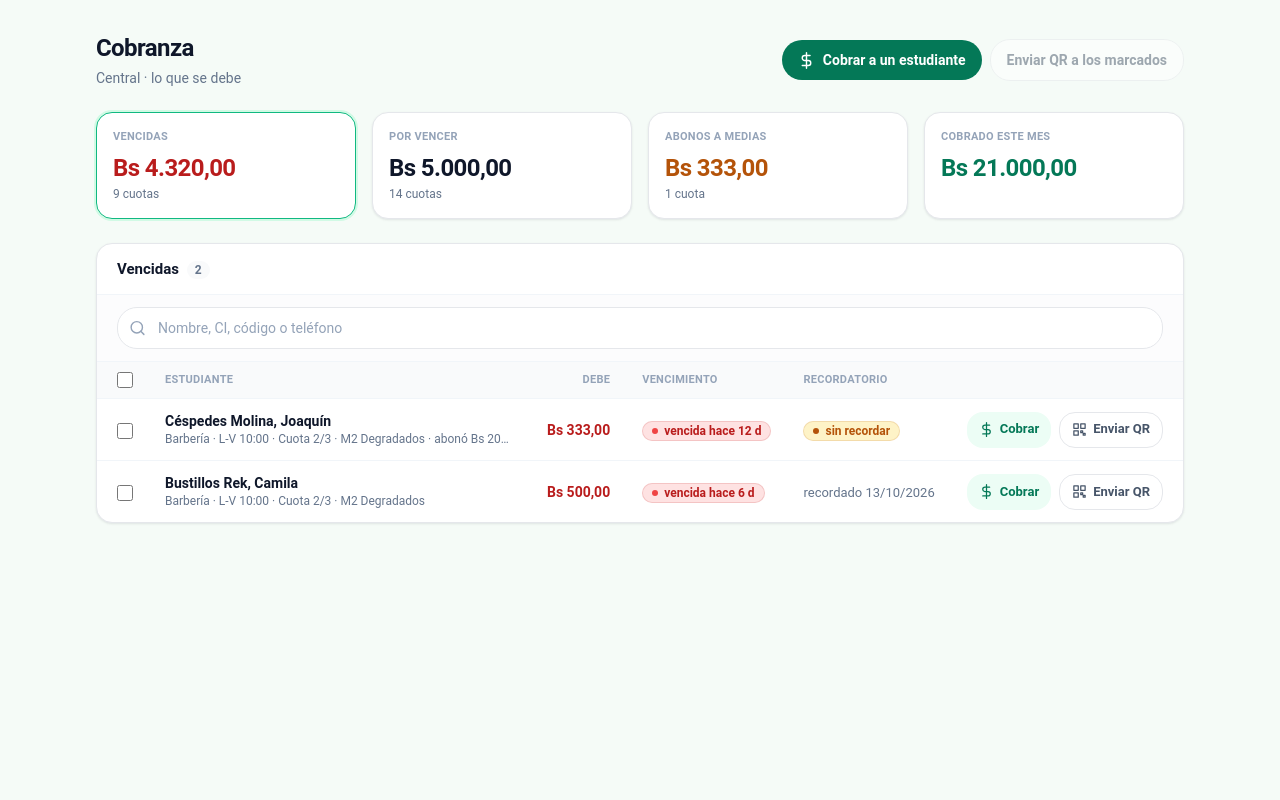
N7 · cobranza › GRUPO_CANCELADO (400) al armar el recordatorio: el mensaje del backend tal cual
Step 1. Click the button "Enviar QR" in the row of "vencida hace 12 d" → (1111, 430), box [1059,412,1163,448]
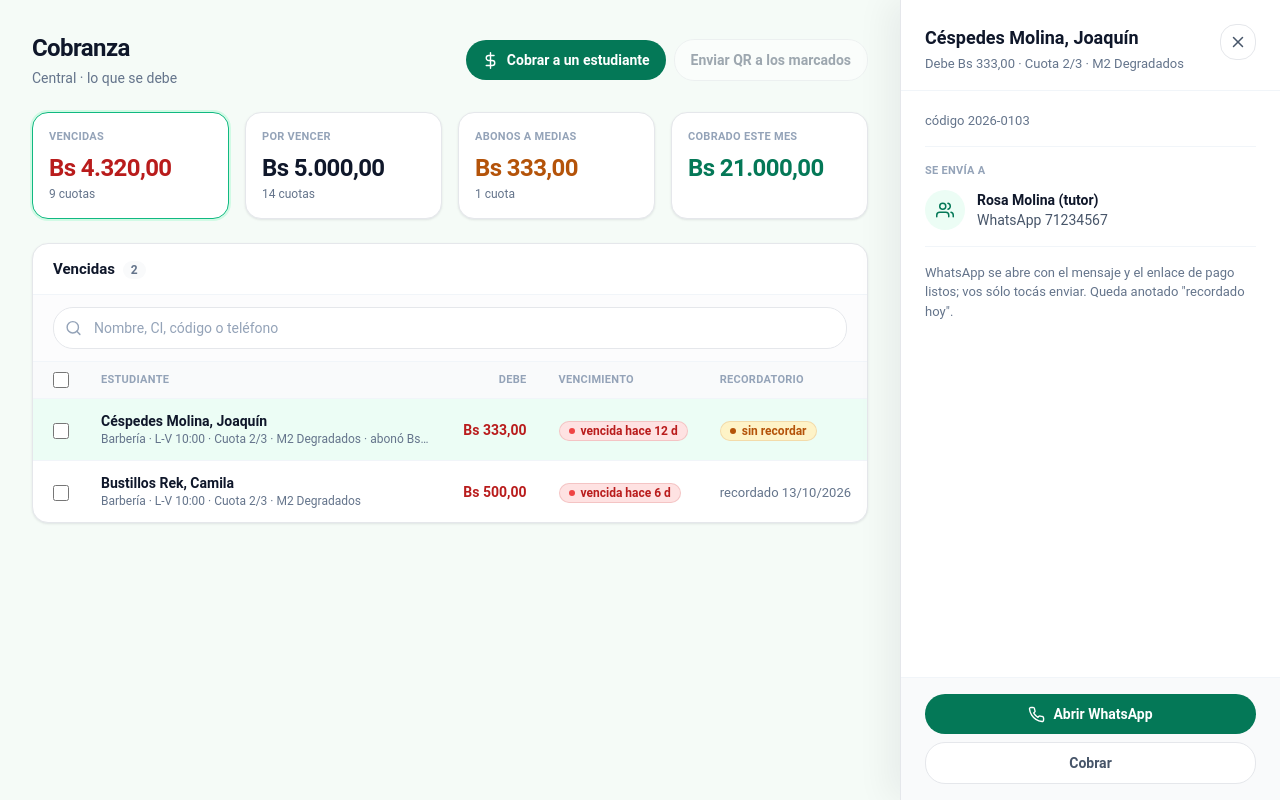
Step 2. Click the button "Abrir WhatsApp" → (1090, 714), box [925,694,1256,734]
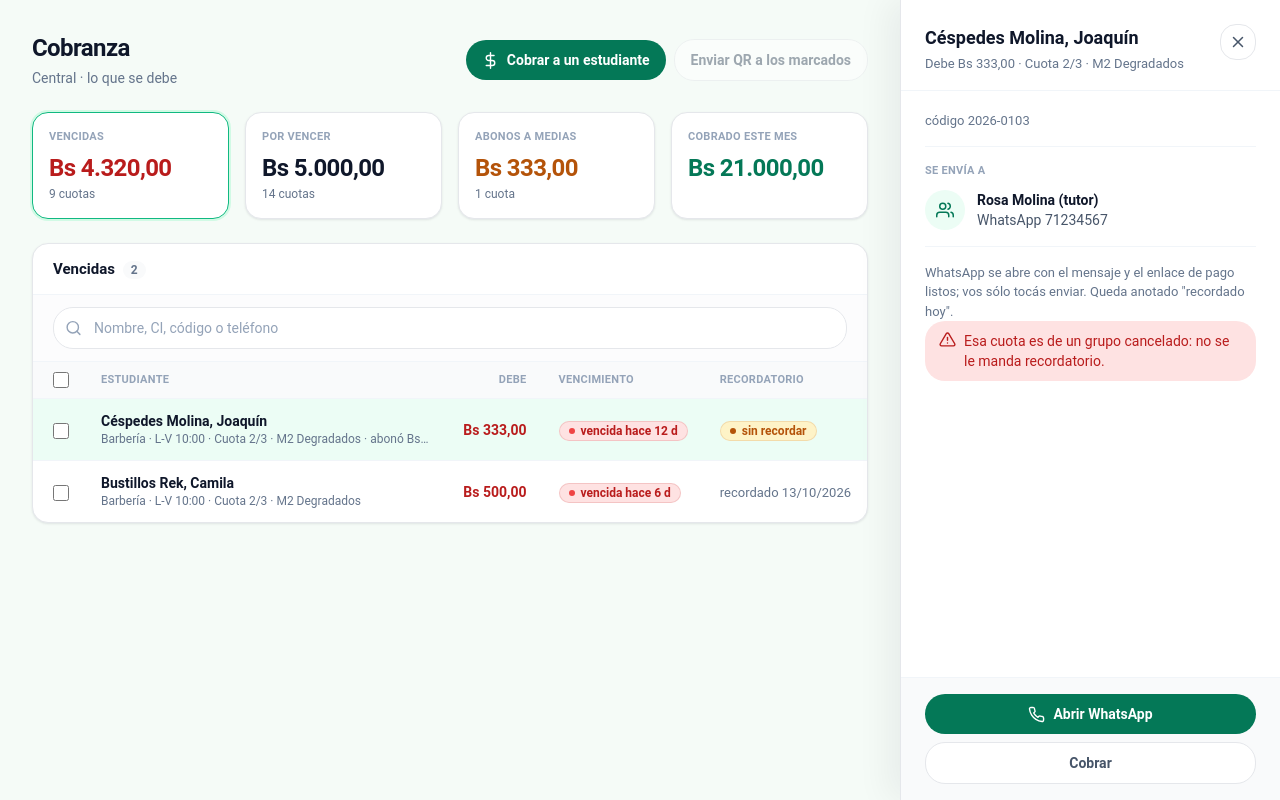
Result: the text "Esa cuota es de un grupo cancelado: no se le manda recordatorio." is shown at [964,331,1242,371]
